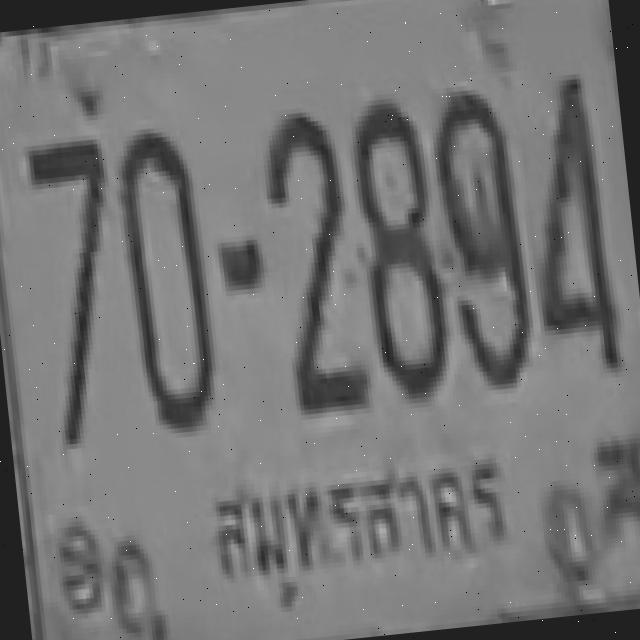0: (113, 125, 220, 432)
2: (258, 105, 357, 368), (268, 167, 365, 410)
4: (514, 70, 621, 376)
7: (23, 134, 124, 368), (23, 134, 116, 344), (24, 136, 114, 322)
8: (345, 95, 452, 402)
SamutSakhon: (191, 441, 524, 606)
